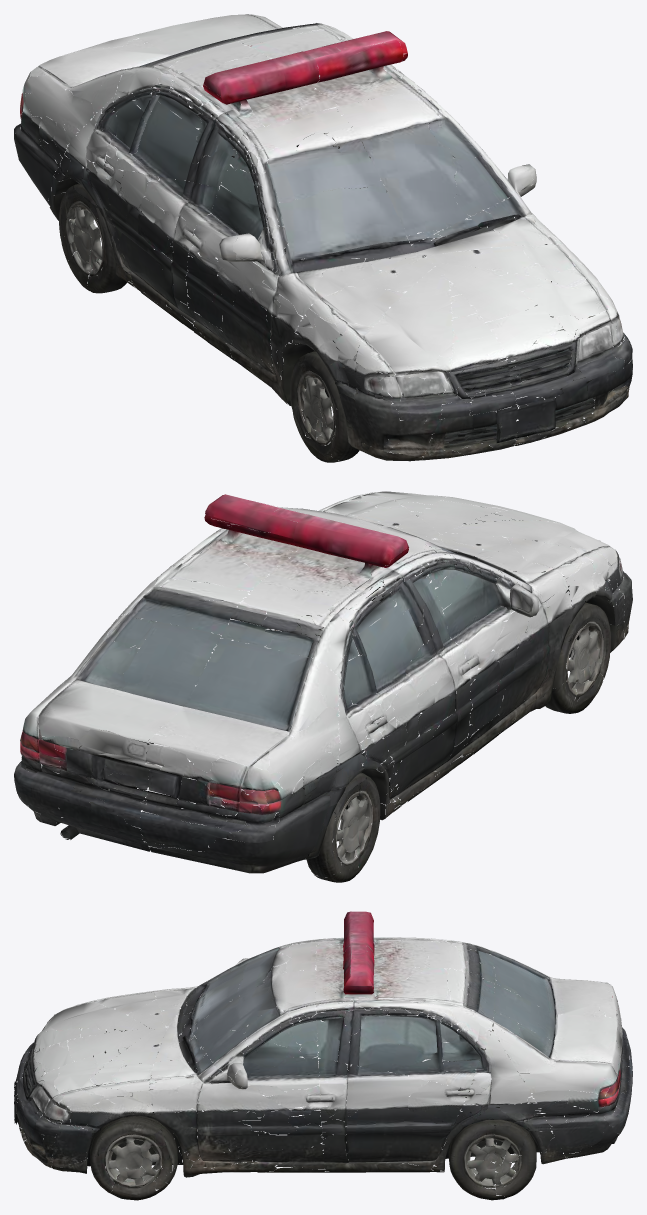
File: police_car_prop.glb
The picture shows the model from 3 angles, top to bottom: view 1: azimuth 30°, elevation 25°; view 2: azimuth 150°, elevation 25°; view 3: azimuth 270°, elevation 25°; orthographic projection. The views are drawn at different scales.
Parts seen in each view (by area): view 1: prop_police_car; view 2: prop_police_car; view 3: prop_police_car.
Part boxes in pixels (x1,y1,x2,y2): prop_police_car: (14,14,632,462); prop_police_car: (14,491,632,882); prop_police_car: (14,911,632,1200).
Size of the model in its own units: 0.4457 by 0.361 by 0.9798.
1 material, 1 textured.
